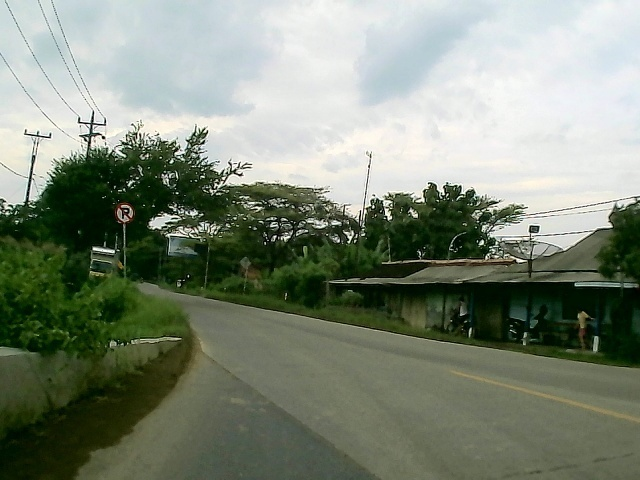Dilarang parkir: (114, 201, 136, 226)
